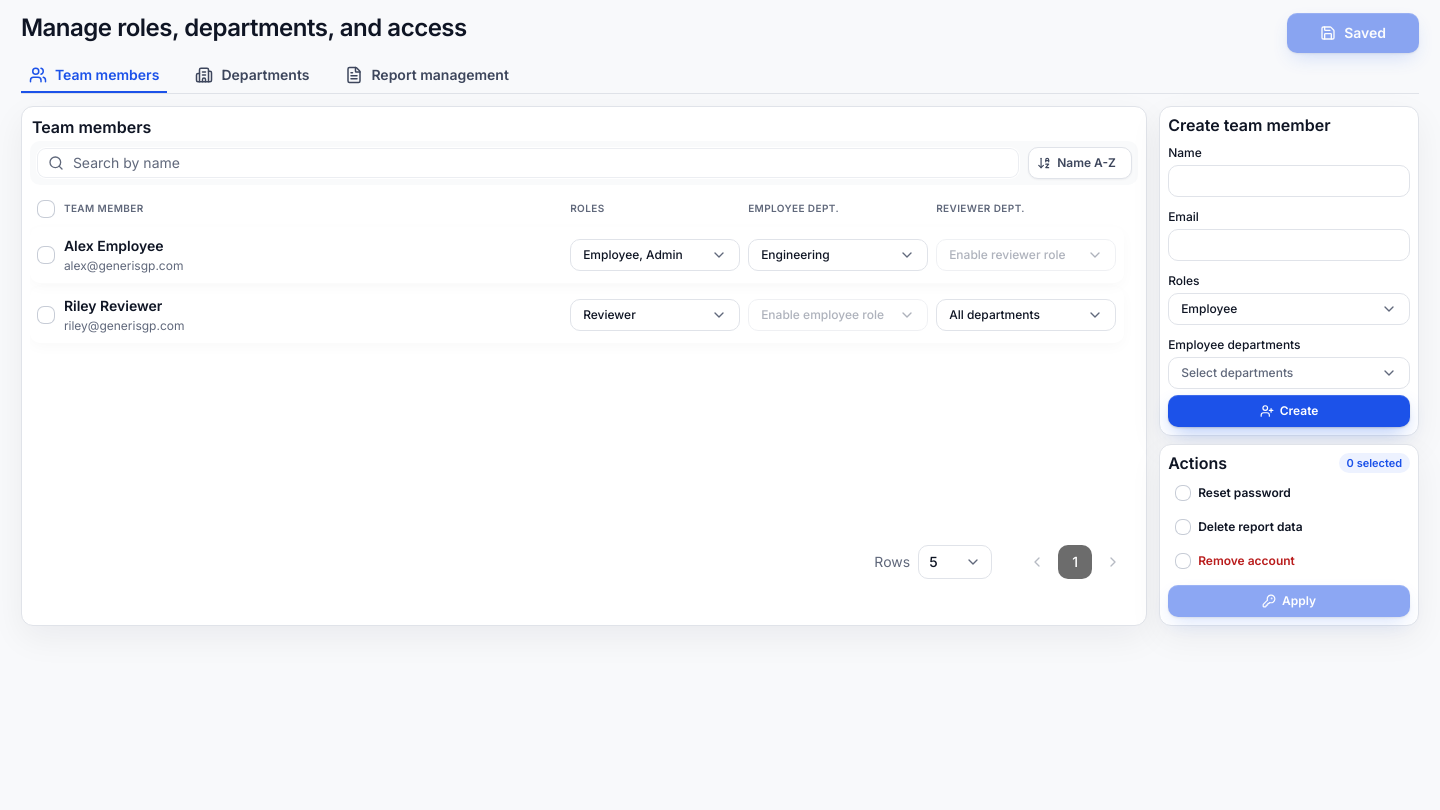
Test: AdminUsers › resets passwords for selected team members from the actions tile
Expected: the heading "Actions" is shown, [1168,453,1227,473]
Step 1. Click the checkbox named "Select Riley Reviewer" → (46, 315), box [38,307,54,323]
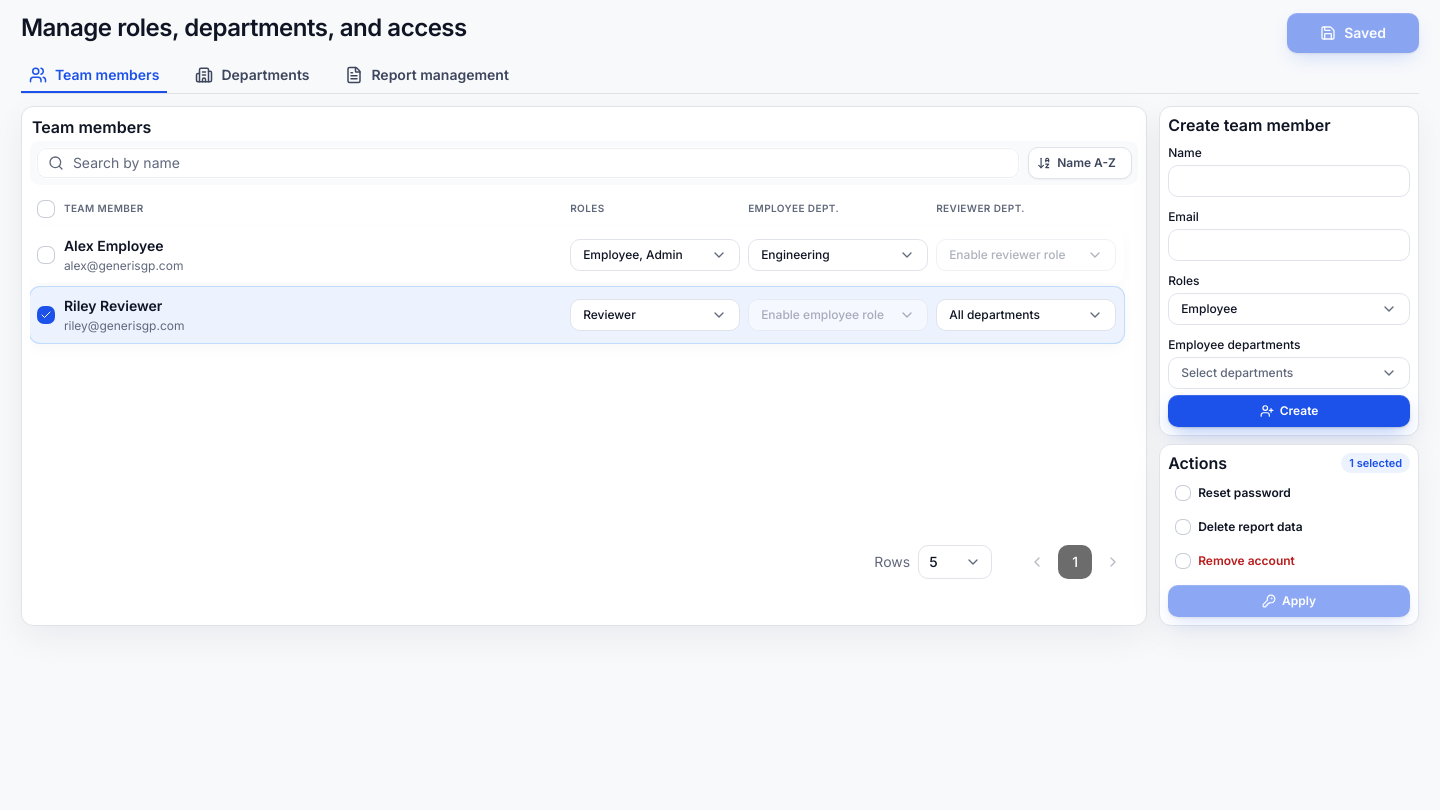
Step 2. Click the 4th checkbox labelled "Reset password" → (1233, 493), box [1176,486,1291,500]
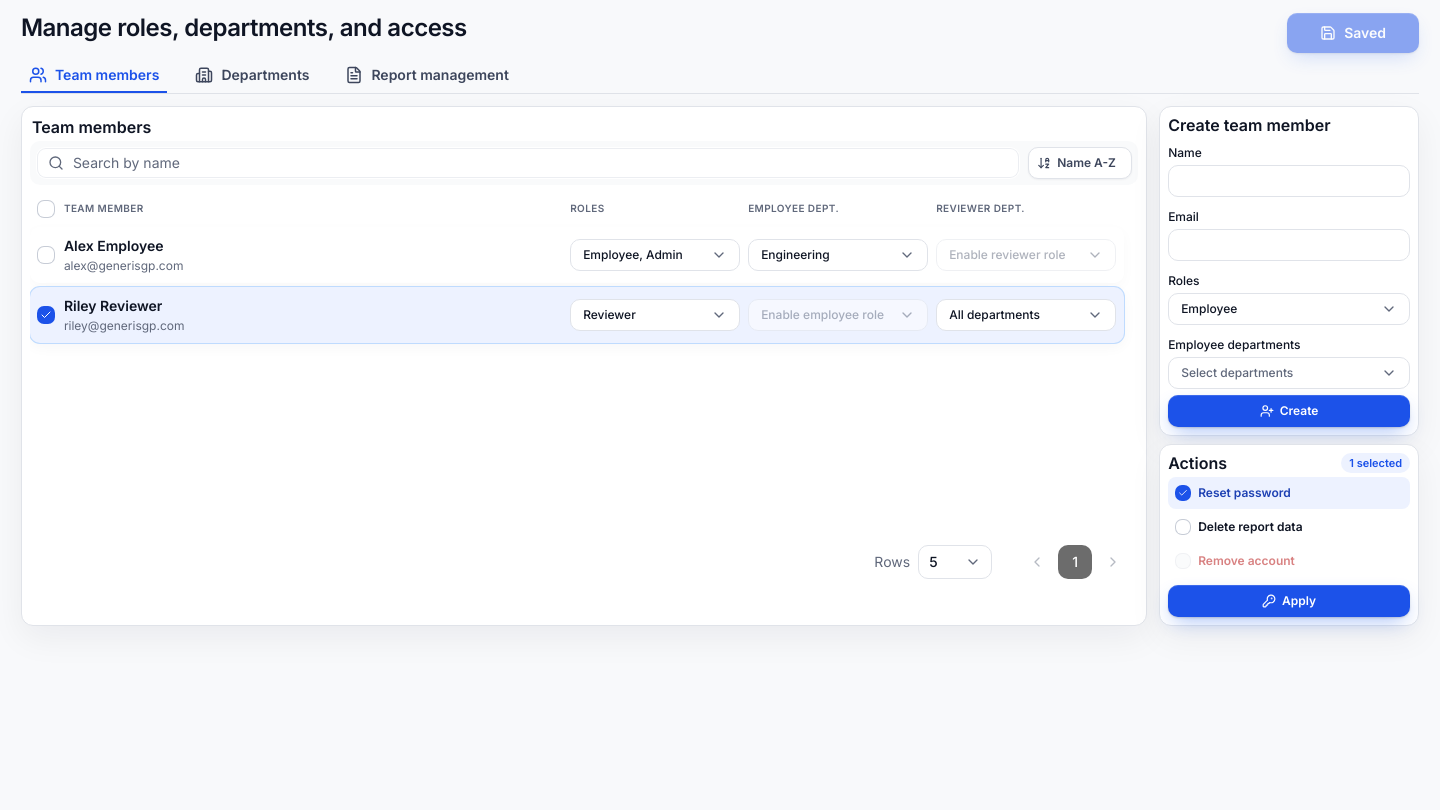
Step 3. Click the button "Apply" → (1289, 602), box [1168,586,1410,618]
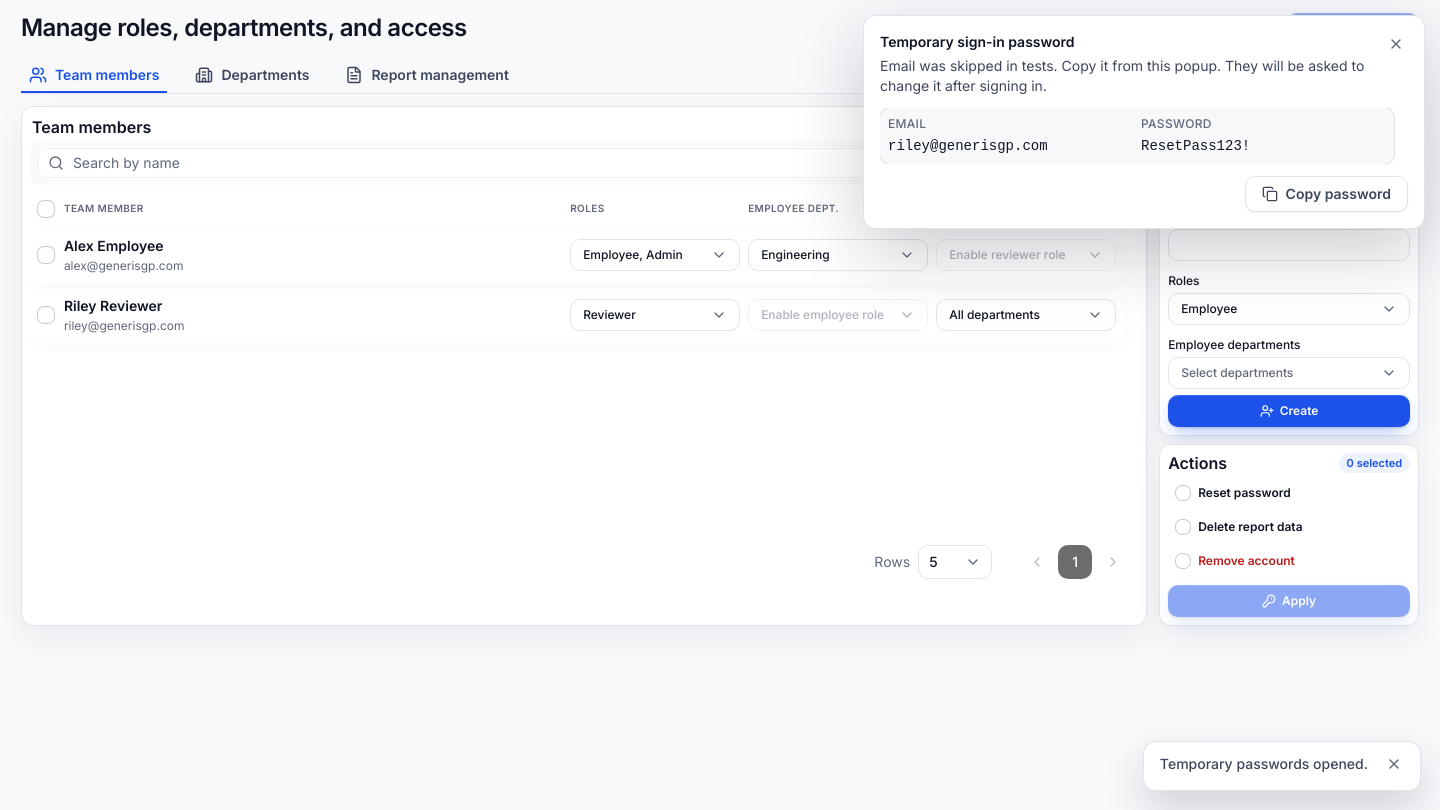
Expected: the text "riley@generisgp.com" next to "ResetPass123!" is shown, [888,138,1048,154]
Expected: the text "ResetPass123!" is shown, [1141,138,1250,154]
